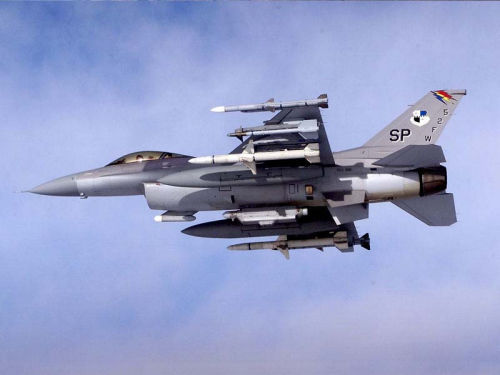airplane: (19, 87, 469, 259)
